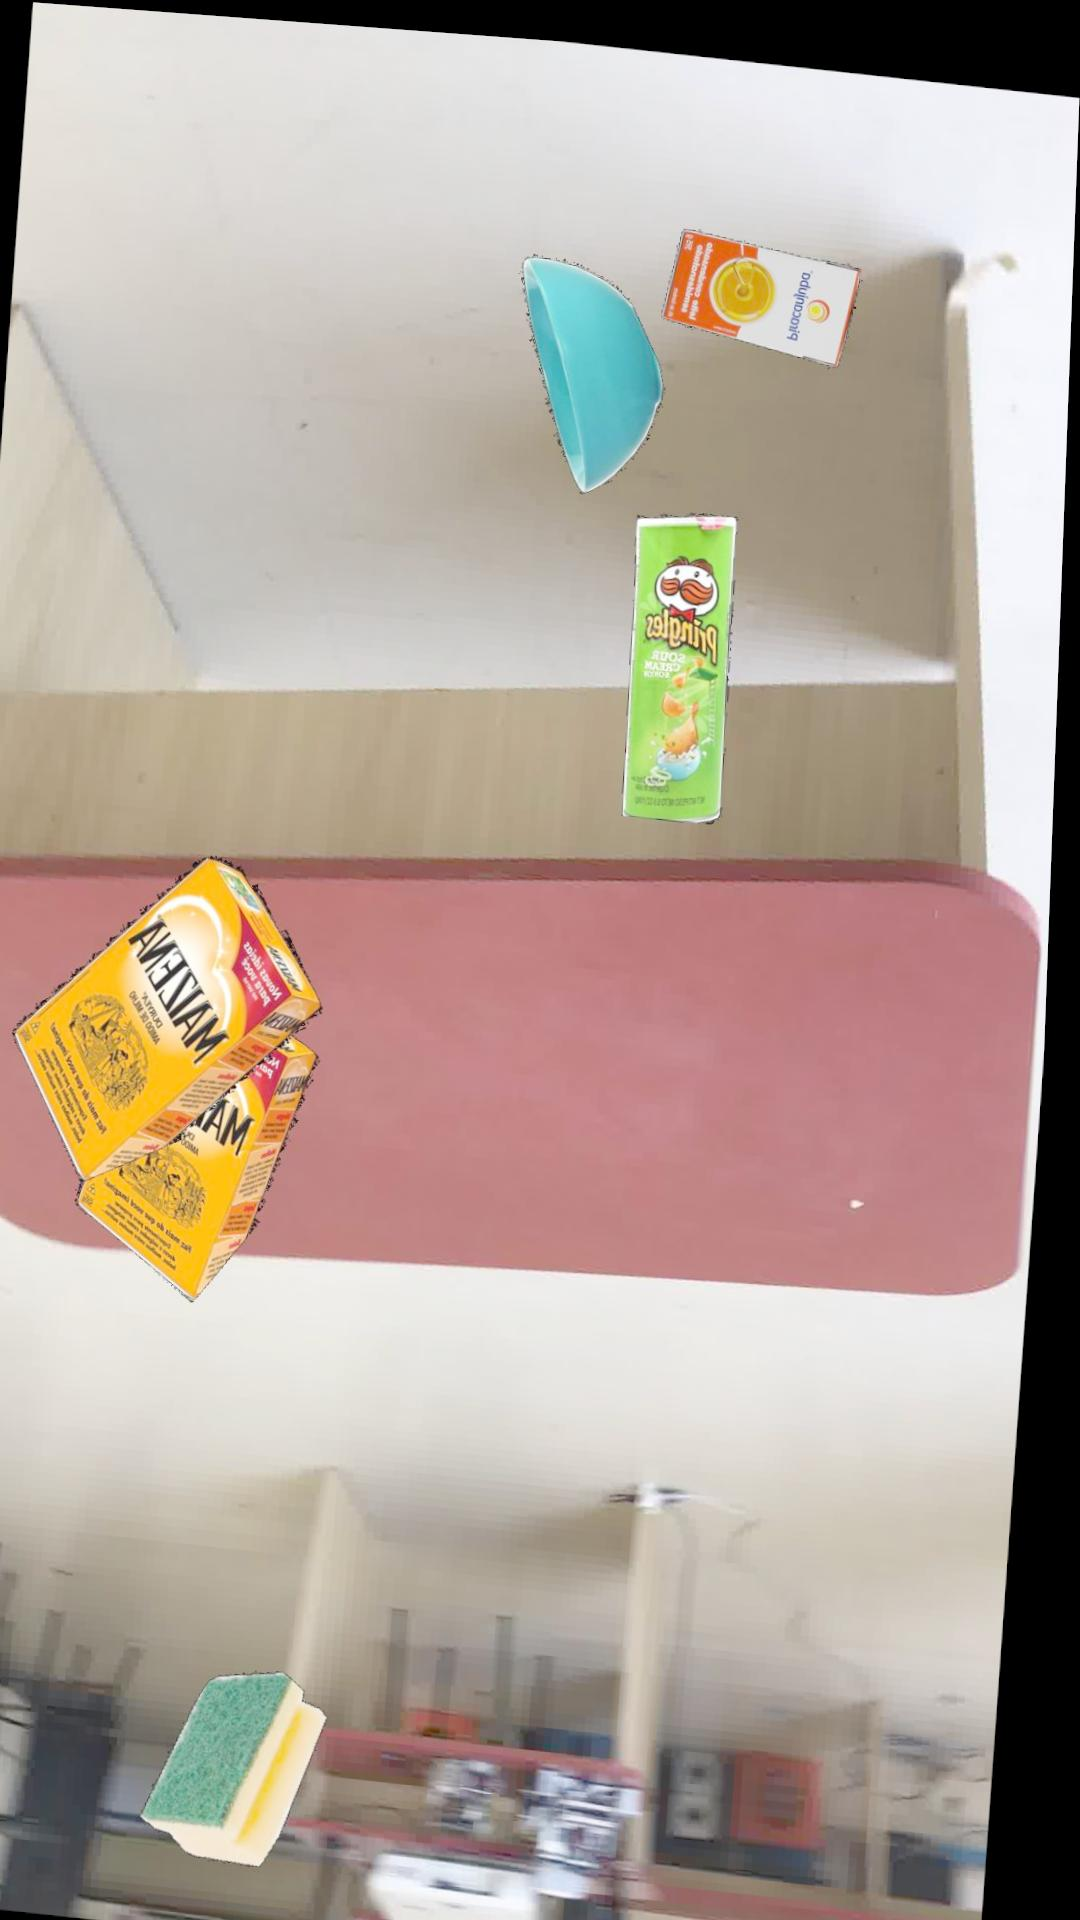bowl: (525, 249, 667, 485)
pringles: (629, 505, 744, 815)
sponge: (156, 1668, 343, 1863)
